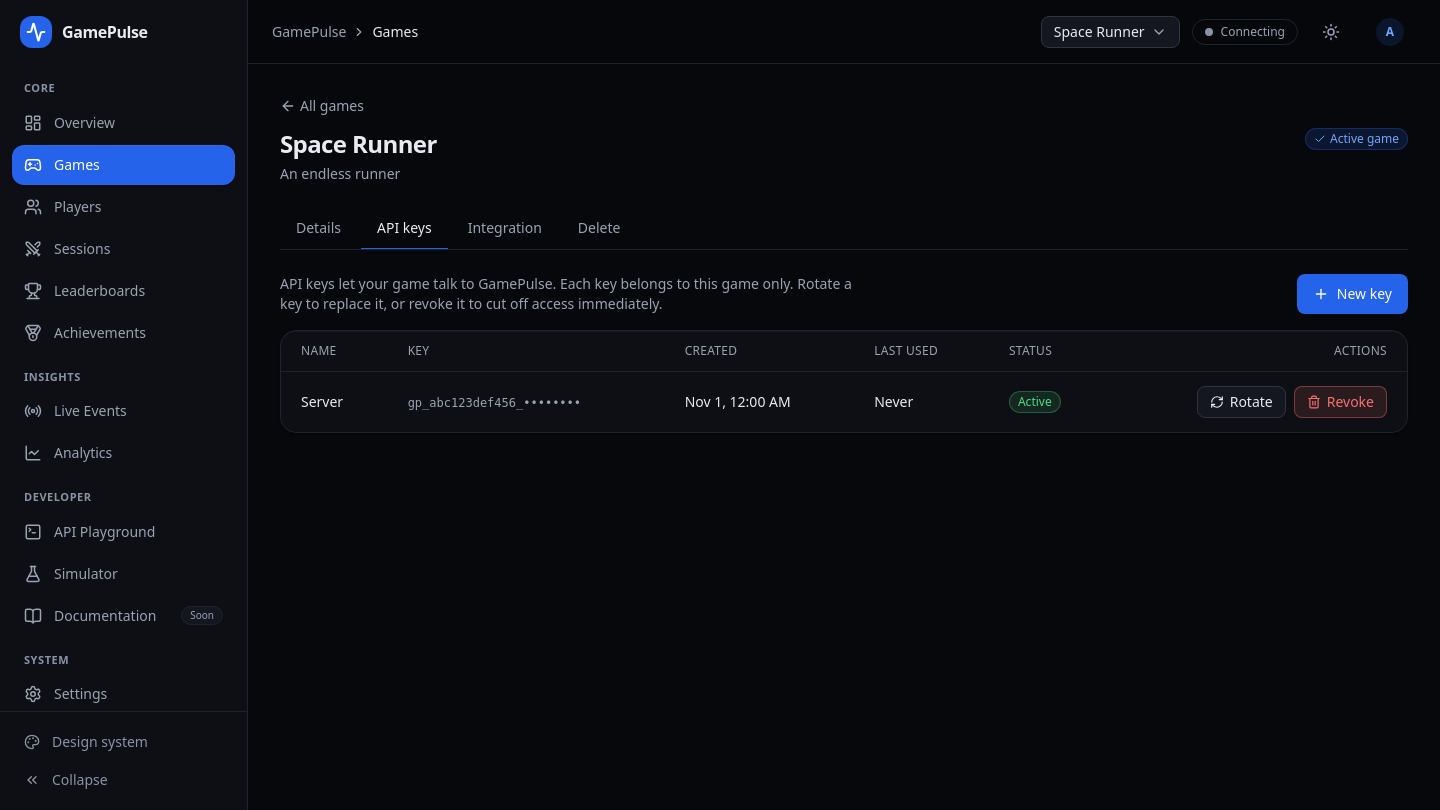
Test: Game API keys › shows the new secret exactly once
Later steps or results of the test are not shown.
Click the button "New key" at (1352, 294), box [1297,274,1408,314]
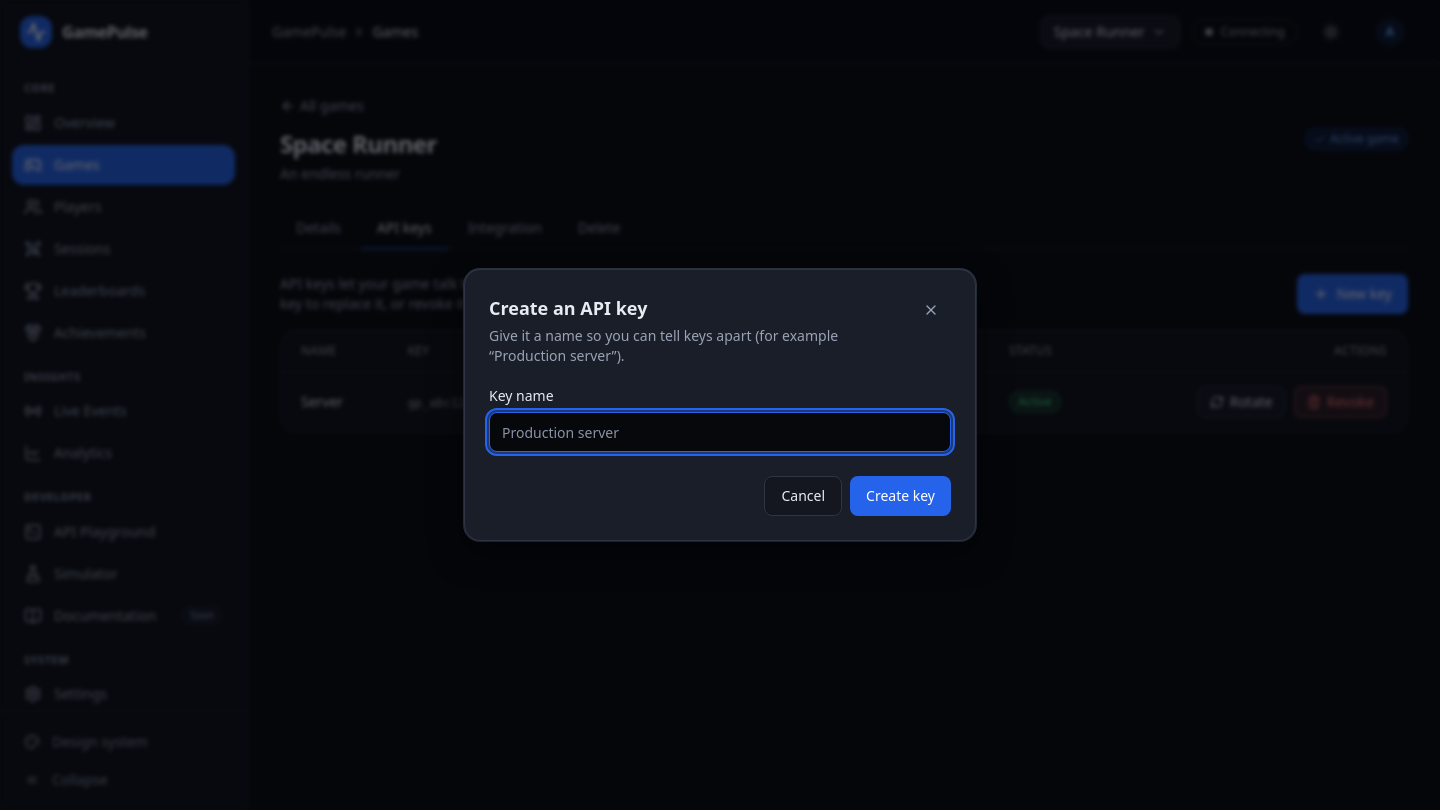
Type "Prod" into the field labelled "Key name" at (720, 432), box [489,412,951,452]
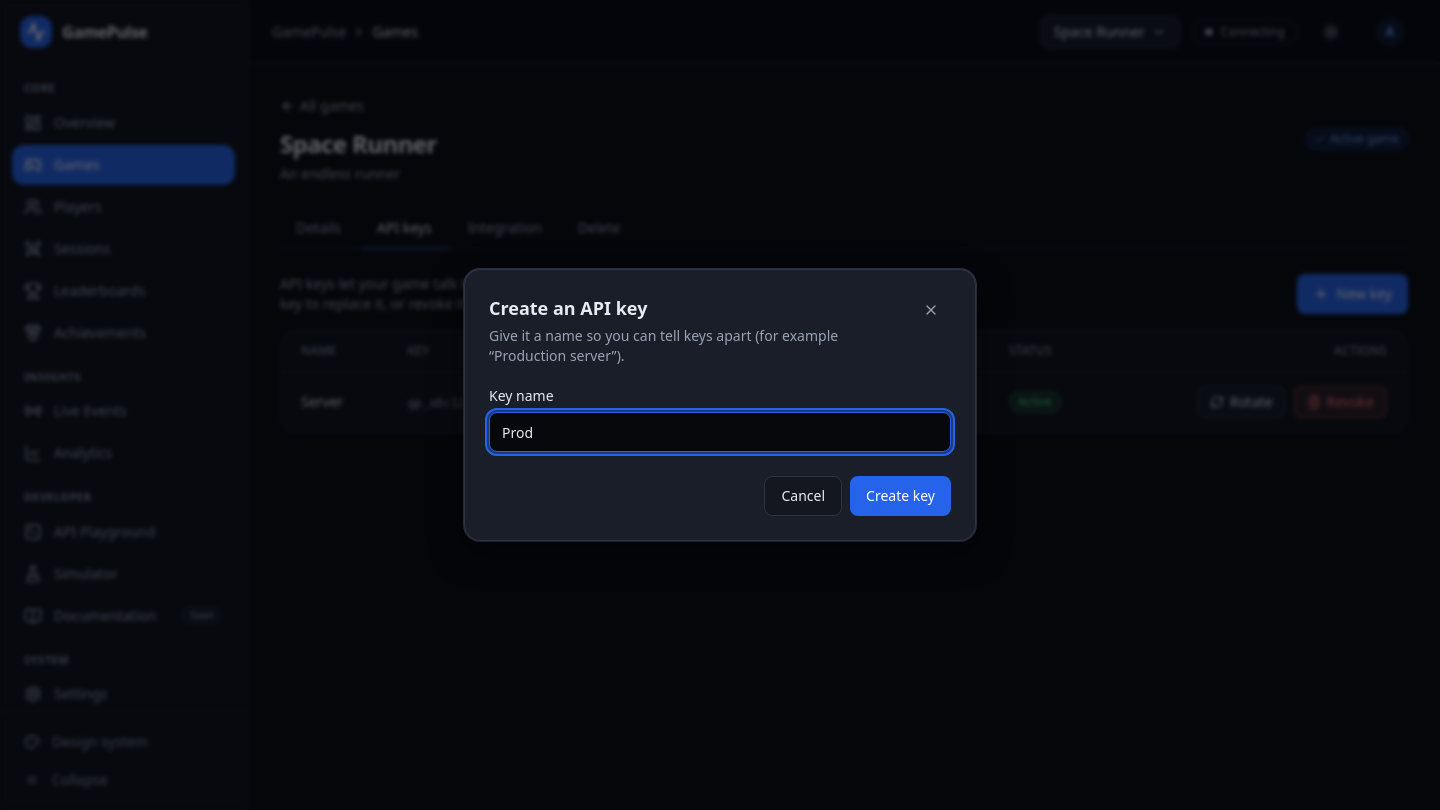
Click the button "Create key" at (901, 496), box [850,476,951,516]
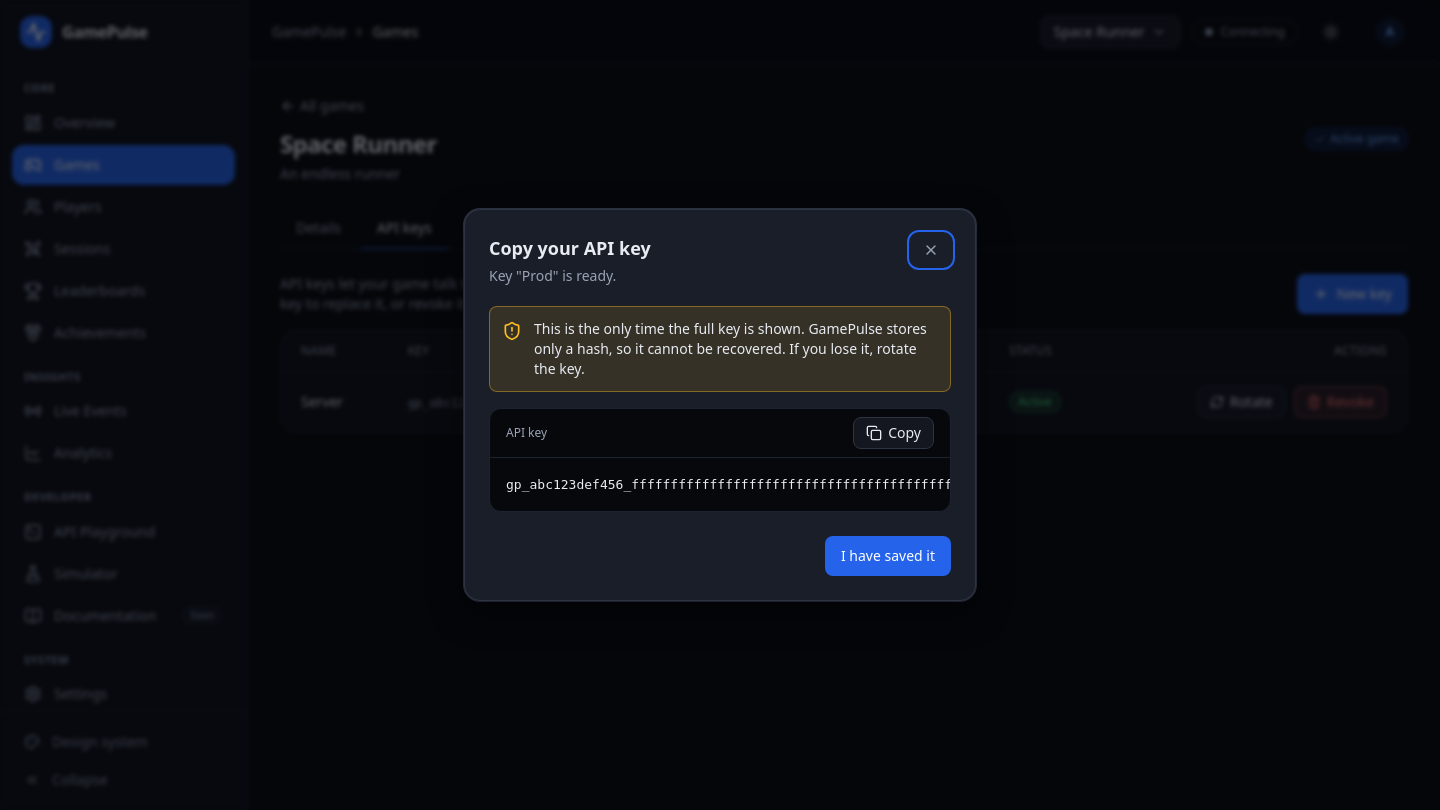
Expected: the text "only time the full key is shown" is shown, [534,319,927,378]
